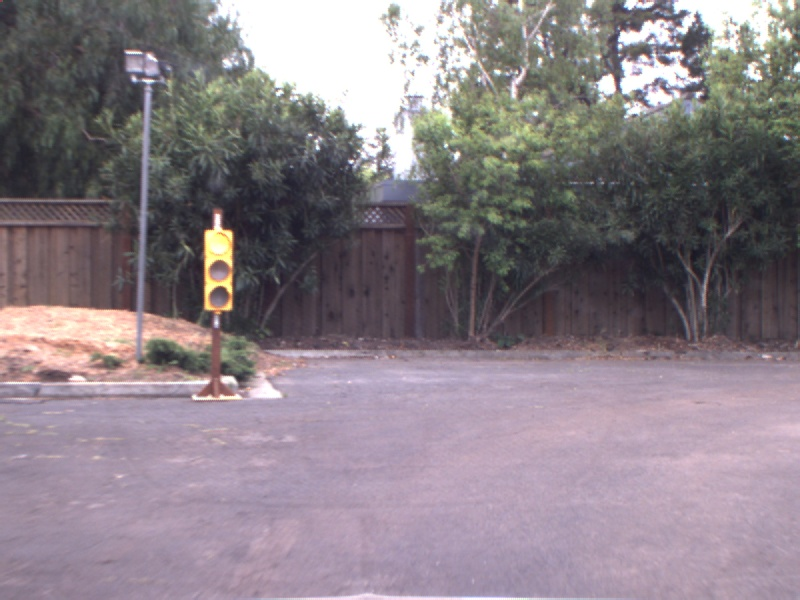red: (199, 222, 236, 313)
